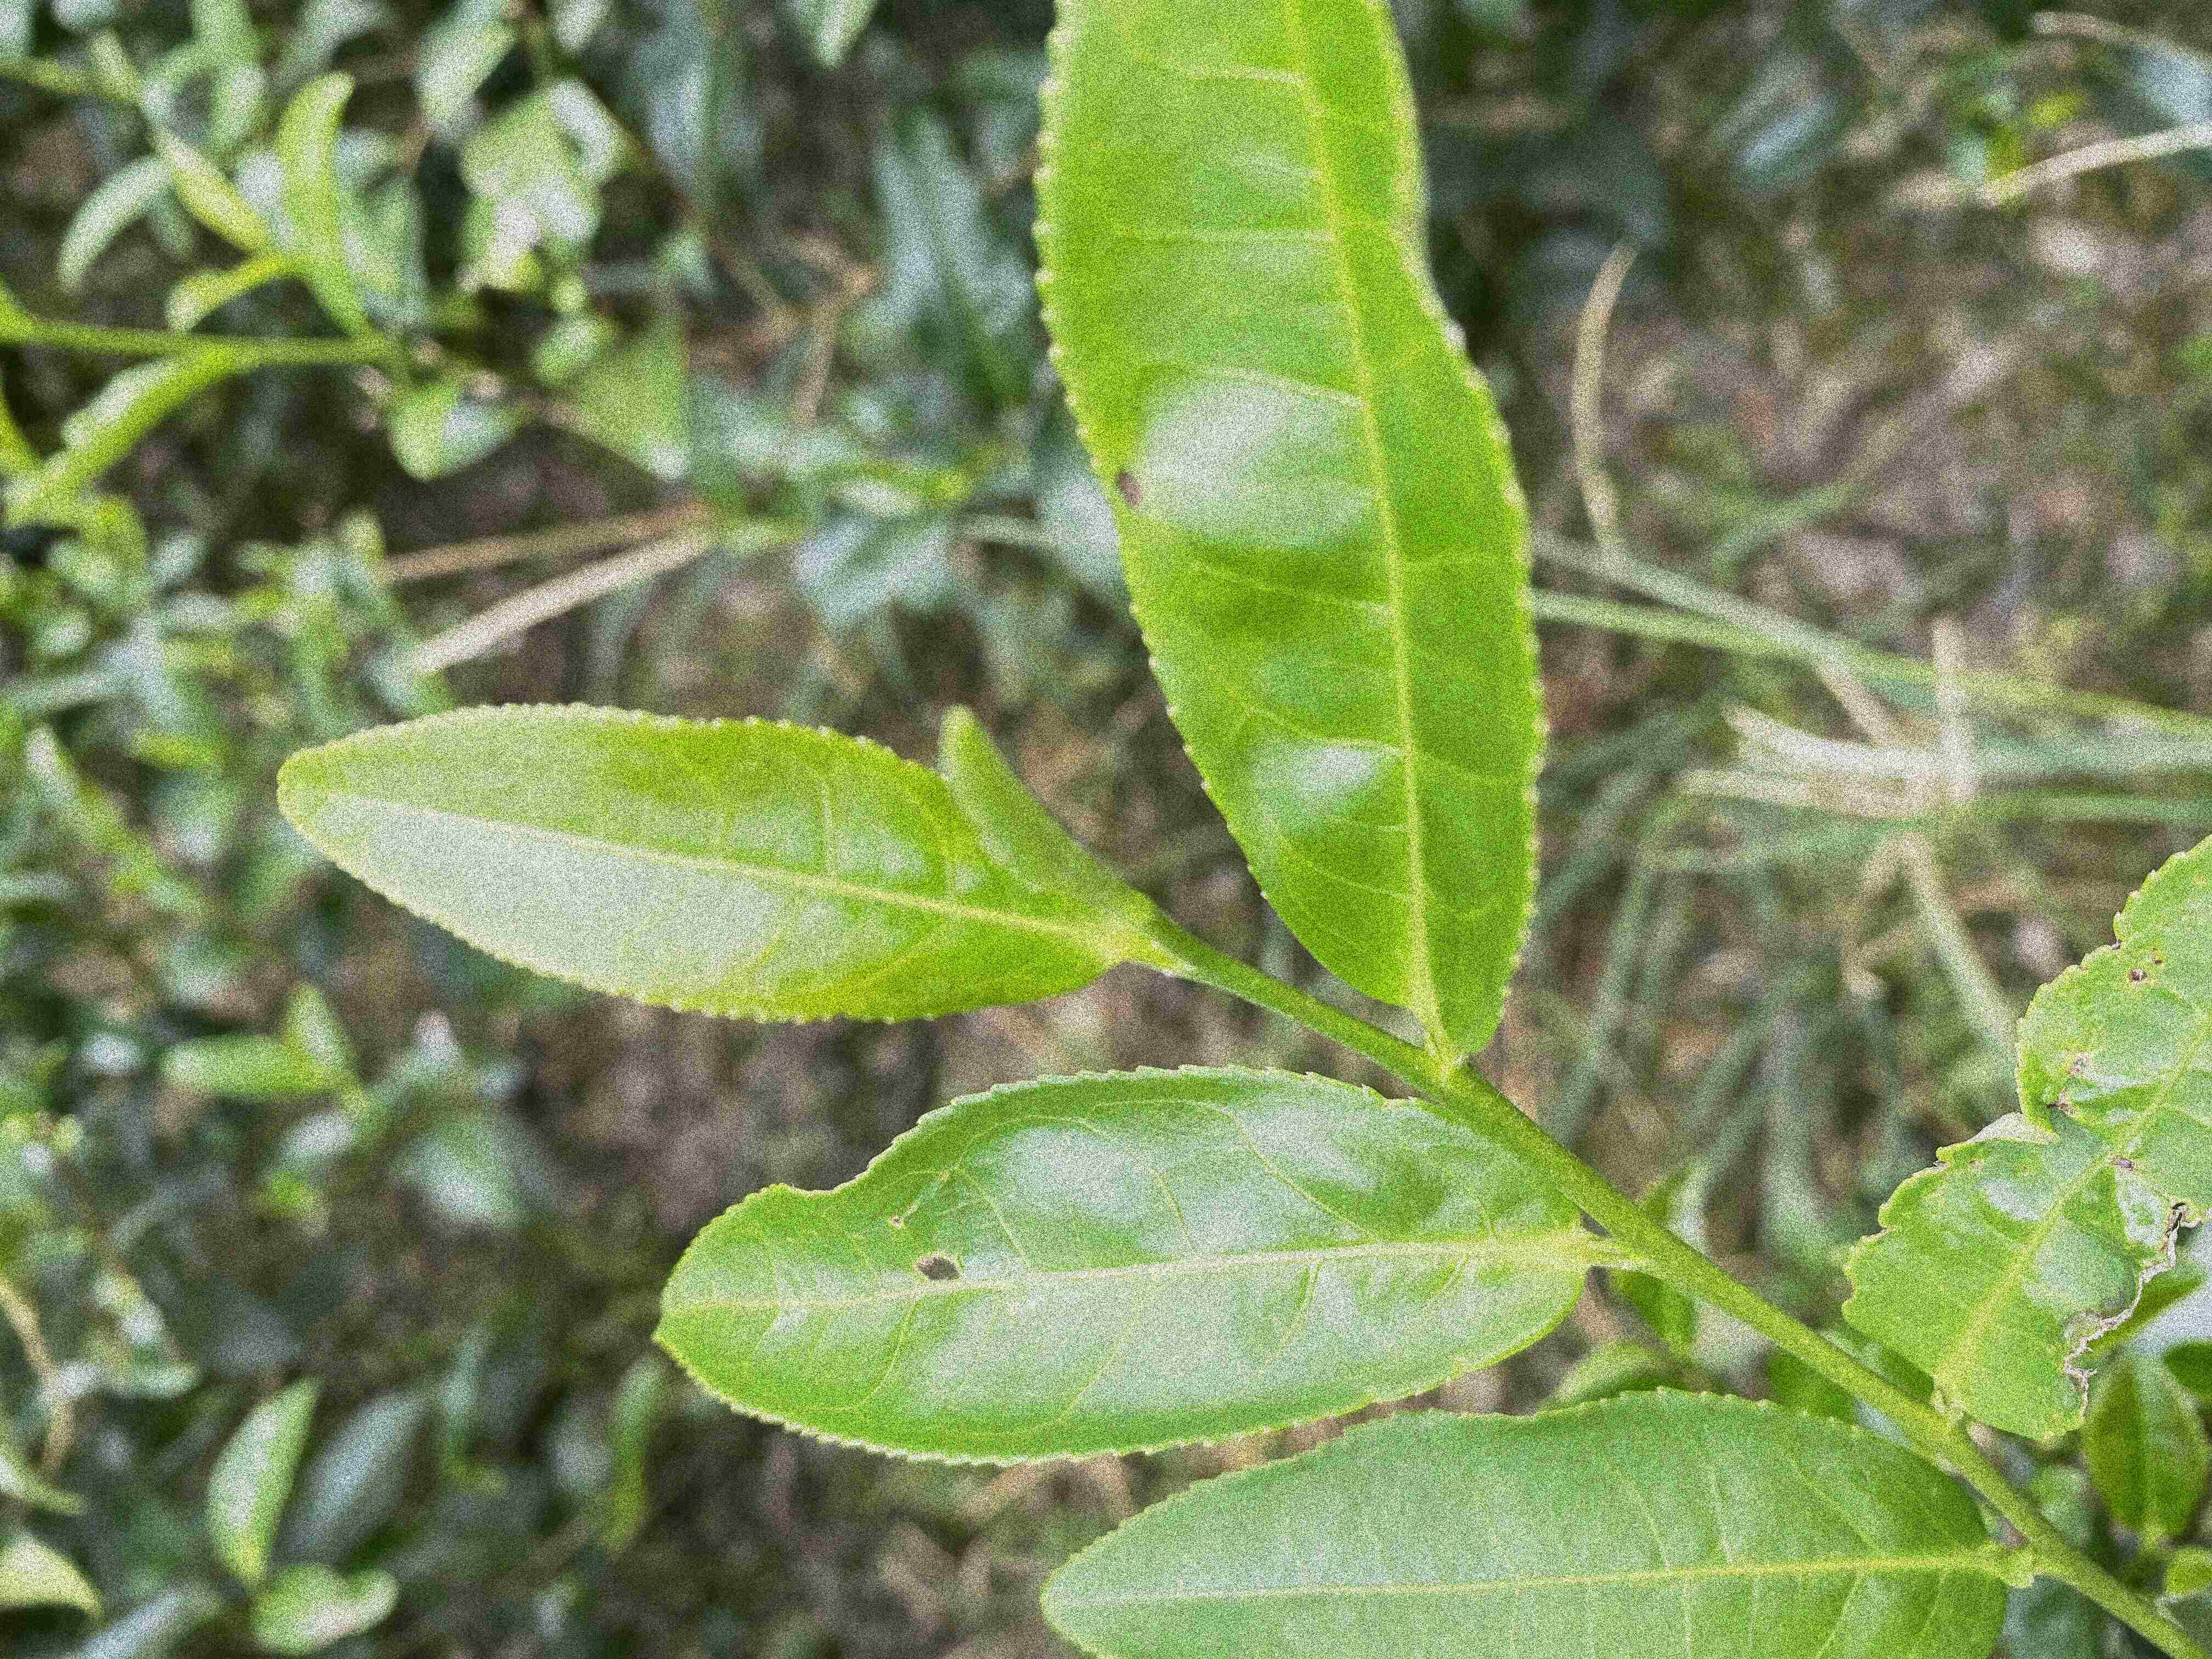chihuo_low: (653, 1063, 1581, 1467)
healthy: (273, 702, 1118, 1030), (1040, 1387, 2012, 1656)
tanju_low: (1029, 5, 1550, 1060)
